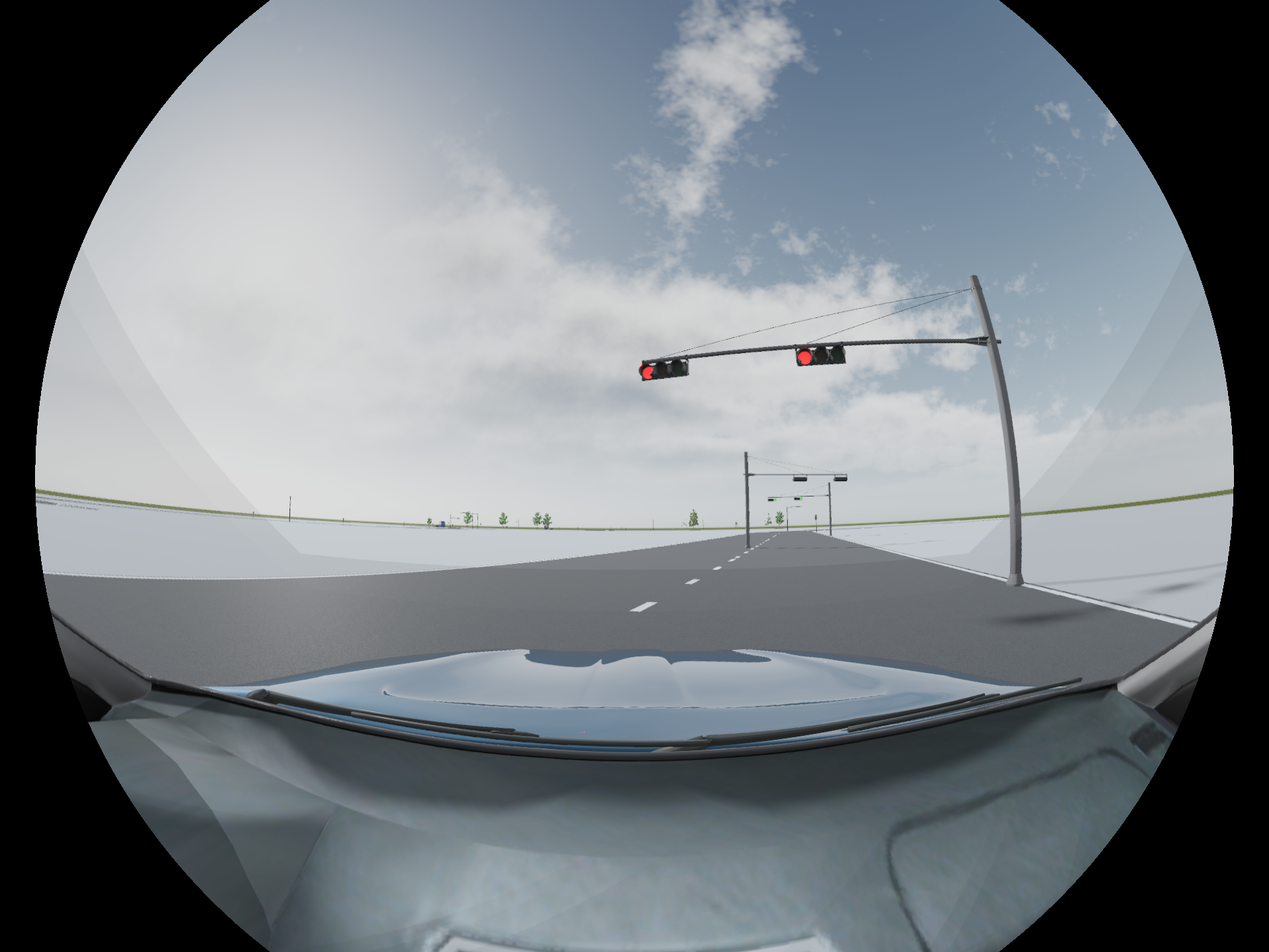Red Light: (639, 361, 691, 379)
